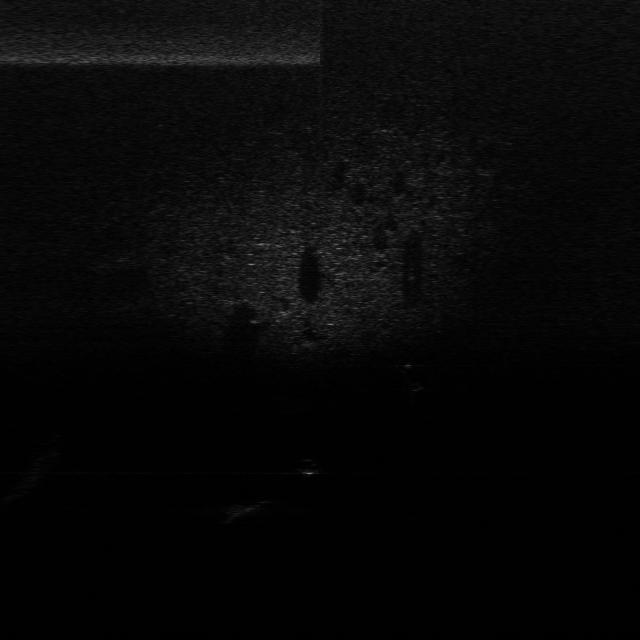ball: (294, 458, 327, 477)
square cage: (218, 496, 284, 522)
tyre: (397, 360, 427, 396)
